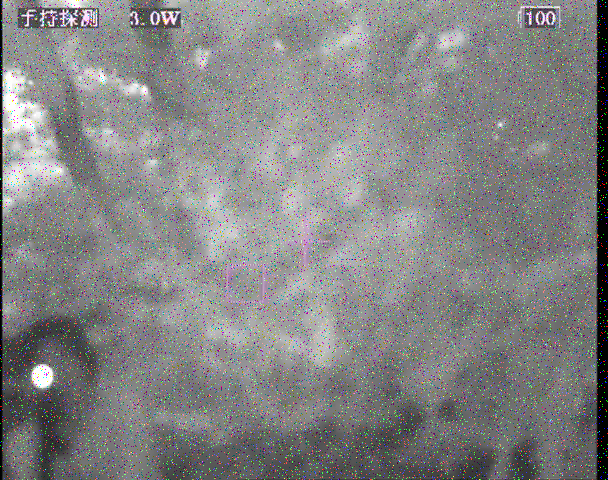my: (30, 363, 56, 390)
